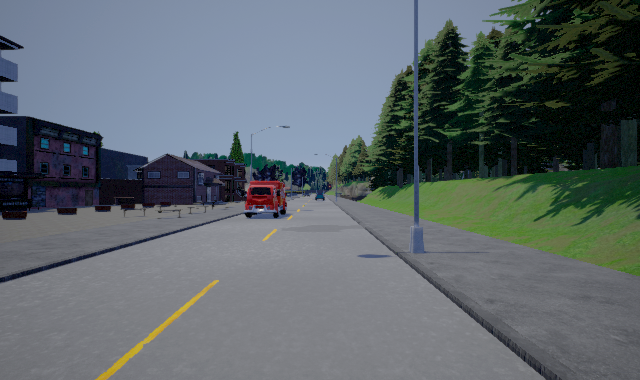vehicle: (241, 181, 287, 218), (314, 193, 324, 201)
